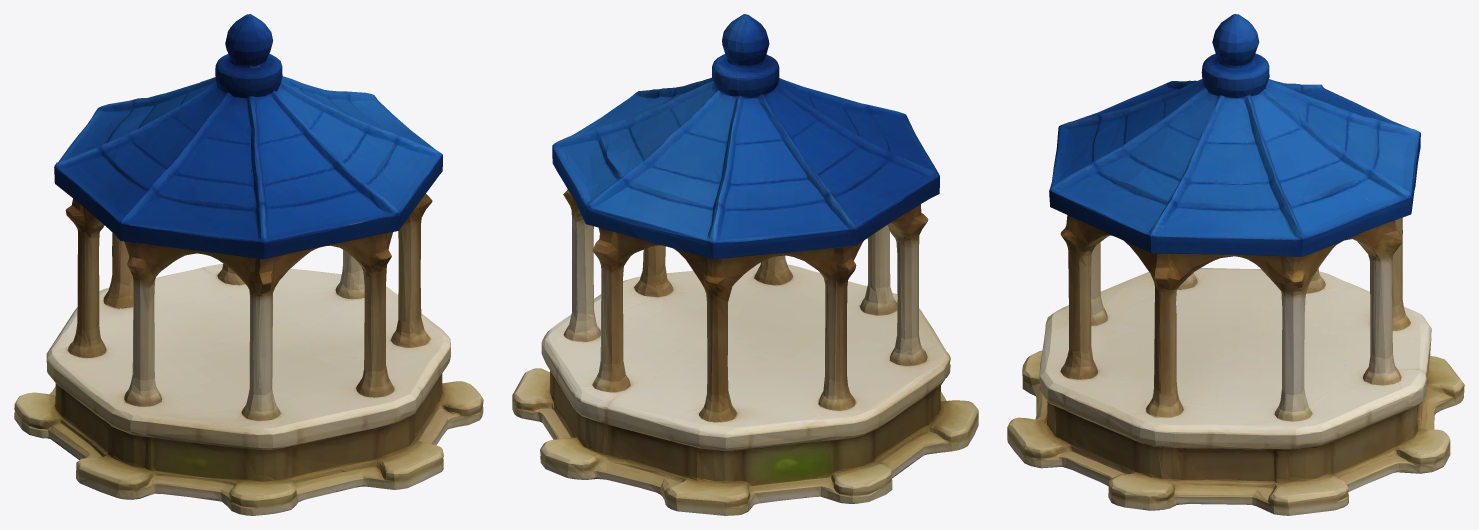
Rendered from gazebo.glb.
3 renders of one model, left to right at view 1: azimuth 30°, elevation 25°; view 2: azimuth 150°, elevation 25°; view 3: azimuth 270°, elevation 25°, orthographic.
Visible parts, largest first — view 1: geometry_0; view 2: geometry_0; view 3: geometry_0.
Boxes of the visible parts, x1,y1,x2,y2 form: geometry_0: (14,14,483,515); geometry_0: (512,14,978,515); geometry_0: (1007,14,1464,515).
Bounding box in the file's own units: 0.9921 × 0.9756 × 0.9946.
Materials: 1 (1 with a texture image).
